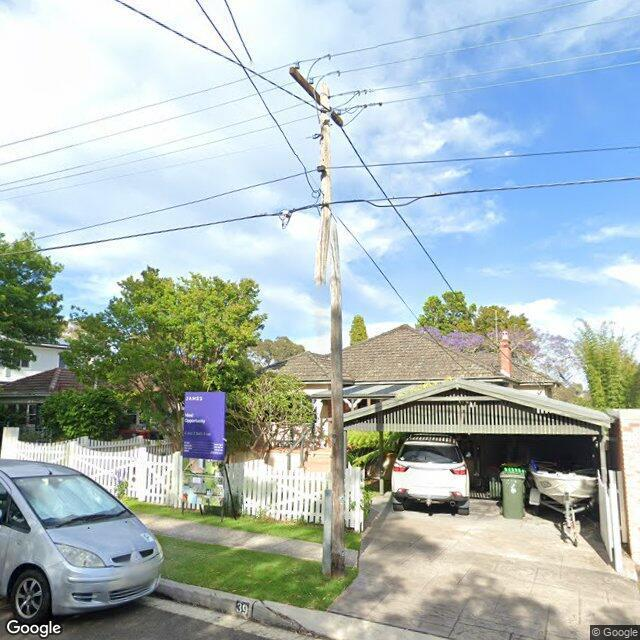crossarm: (288, 66, 345, 128)
timber-pole: (318, 84, 346, 580)
